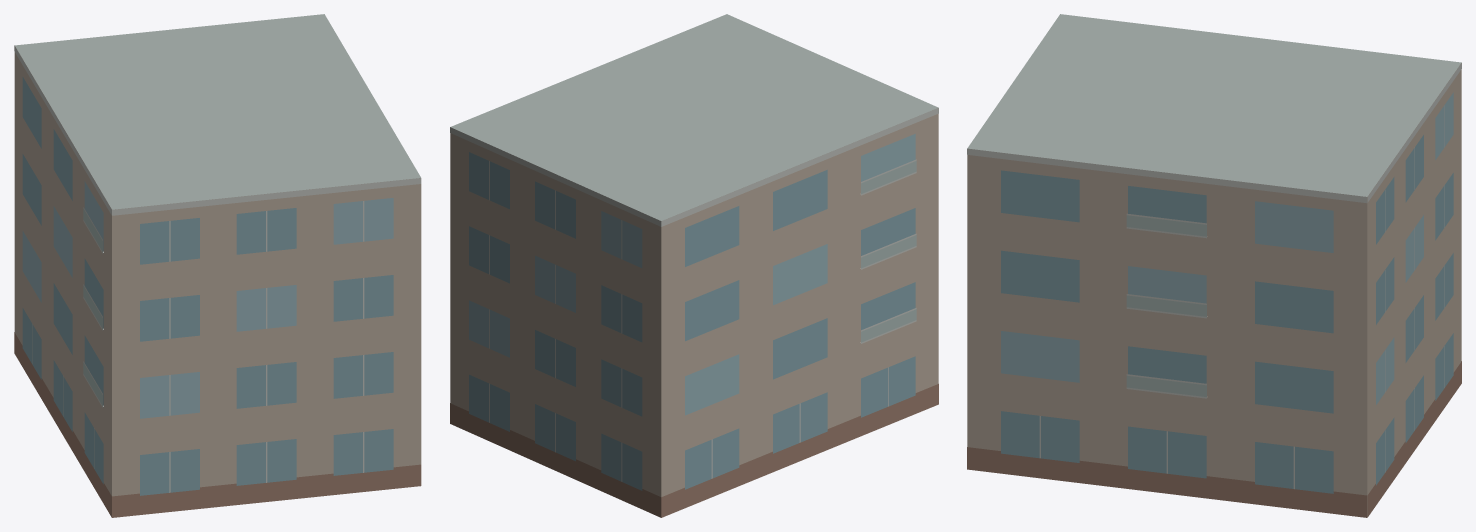
Rendered from survey-upis-32869507.glb.
The picture shows the model from 3 angles, left to right: view 1: azimuth 30°, elevation 25°; view 2: azimuth 150°, elevation 25°; view 3: azimuth 270°, elevation 25°; orthographic projection. The views are drawn at different scales.
Parts seen in each view (by area): view 1: survey-upis-32869507.tmp; view 2: survey-upis-32869507.tmp; view 3: survey-upis-32869507.tmp.
Part boxes in pixels (x1,y1,x2,y2): survey-upis-32869507.tmp: [14, 14, 421, 517]; survey-upis-32869507.tmp: [450, 14, 938, 517]; survey-upis-32869507.tmp: [967, 14, 1461, 517].
Bounding box in the file's own units: 15.21 × 12.43 × 17.37.
